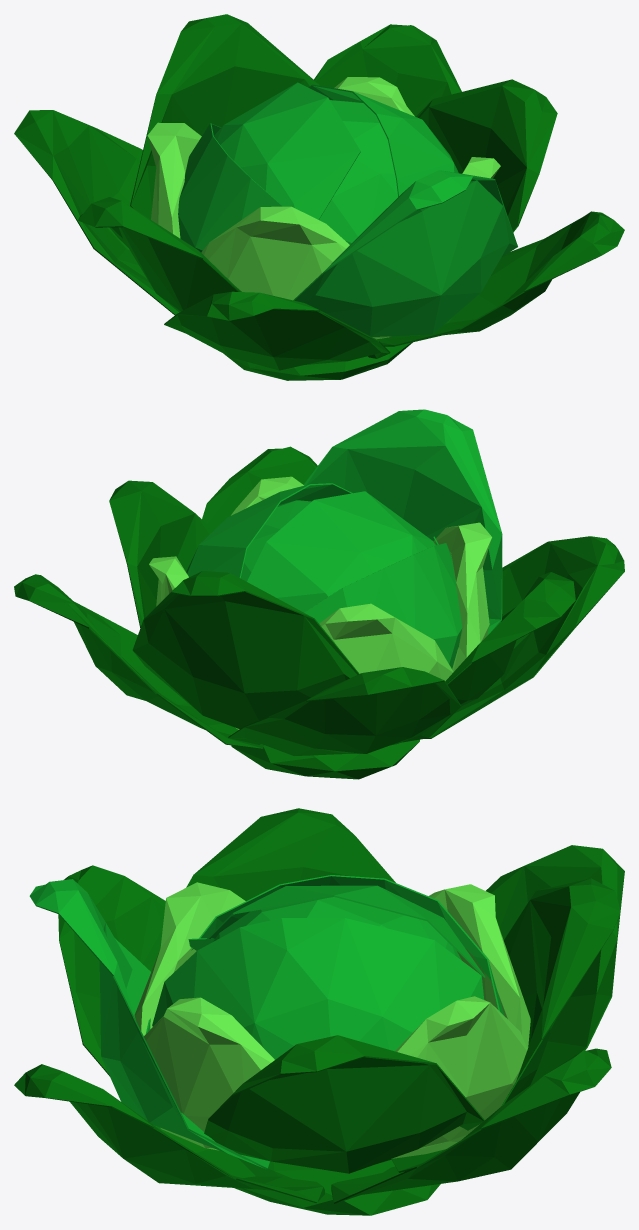
The model's file is cabbage.fbx.
3 renders of one model, top to bottom at view 1: azimuth 30°, elevation 25°; view 2: azimuth 150°, elevation 25°; view 3: azimuth 270°, elevation 25°, orthographic. The views are drawn at different scales.
Parts seen in each view (by area): view 1: Cabbage; view 2: Cabbage; view 3: Cabbage.
Boxes of the visible parts, box(x1,y1,x2,y2) form: Cabbage: box(14, 14, 624, 380); Cabbage: box(14, 409, 624, 779); Cabbage: box(14, 808, 624, 1215).
Bounding box in the file's own units: 207 × 110 × 200.
